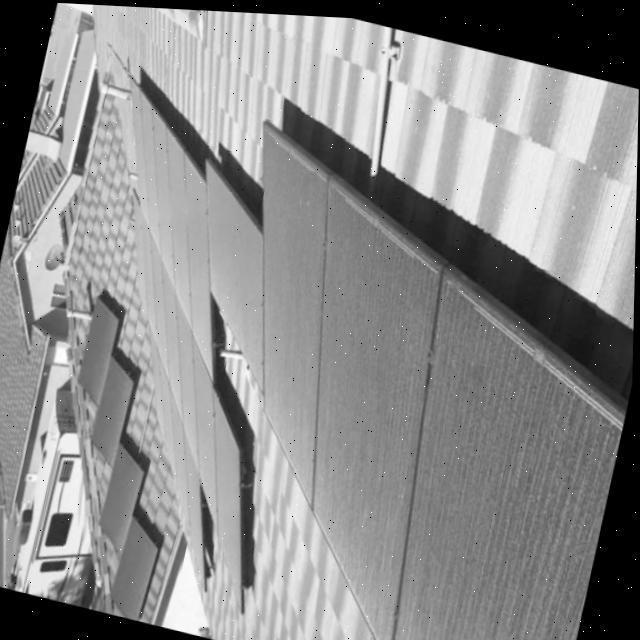Surface Contaminant: (391, 267, 625, 640), (129, 76, 242, 613), (310, 174, 440, 640), (260, 123, 324, 509), (206, 154, 263, 396)
